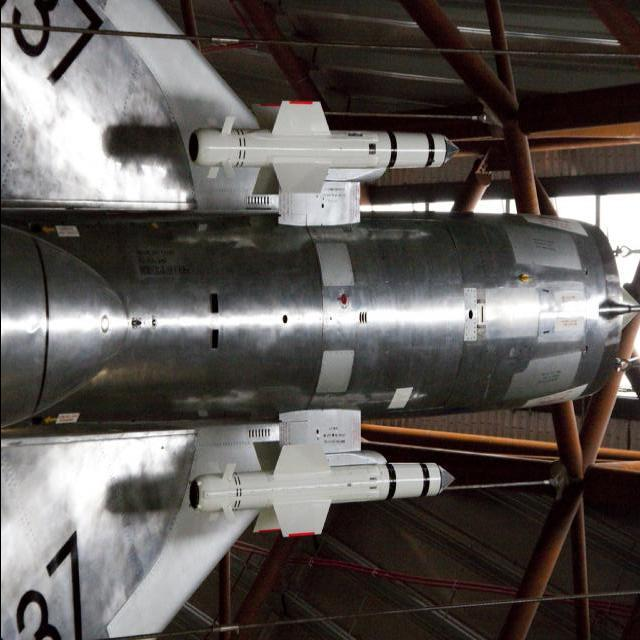missile: (188, 458, 480, 517), (182, 124, 460, 170)
